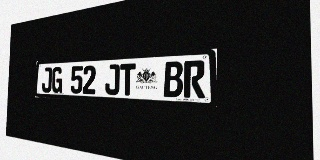2: (83, 65, 96, 94)
5: (71, 66, 83, 94)
B: (164, 61, 183, 97)
G: (51, 67, 63, 93)
J: (105, 64, 120, 95), (41, 67, 52, 93)
R: (184, 60, 205, 98)
T: (120, 63, 136, 96)
